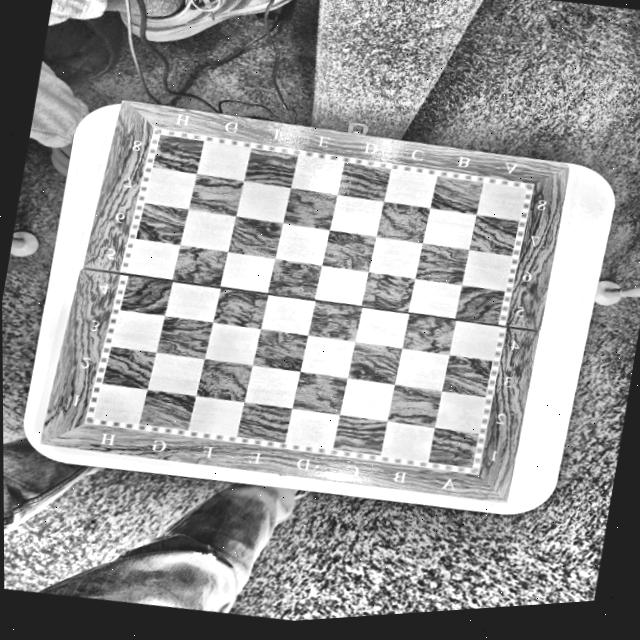chessboard: (82, 125, 534, 473)
p1: (465, 462, 474, 469)
p2: (520, 183, 531, 193)
p3: (155, 129, 164, 139)
p4: (88, 412, 99, 422)
